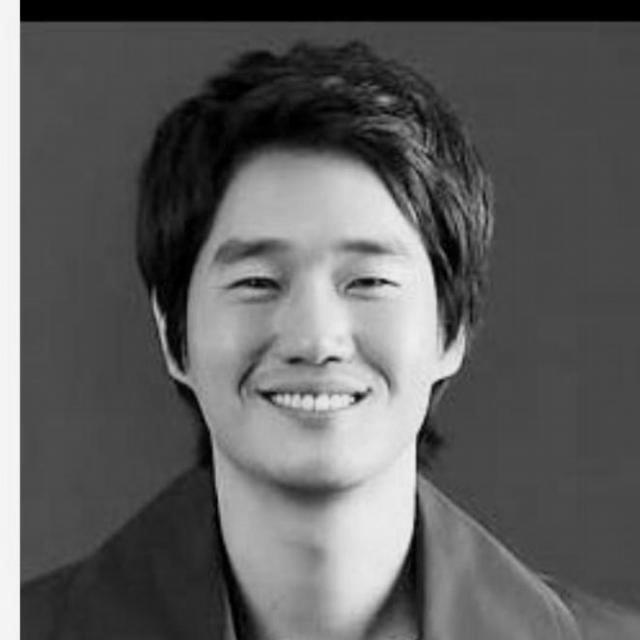real: (185, 140, 442, 494)
